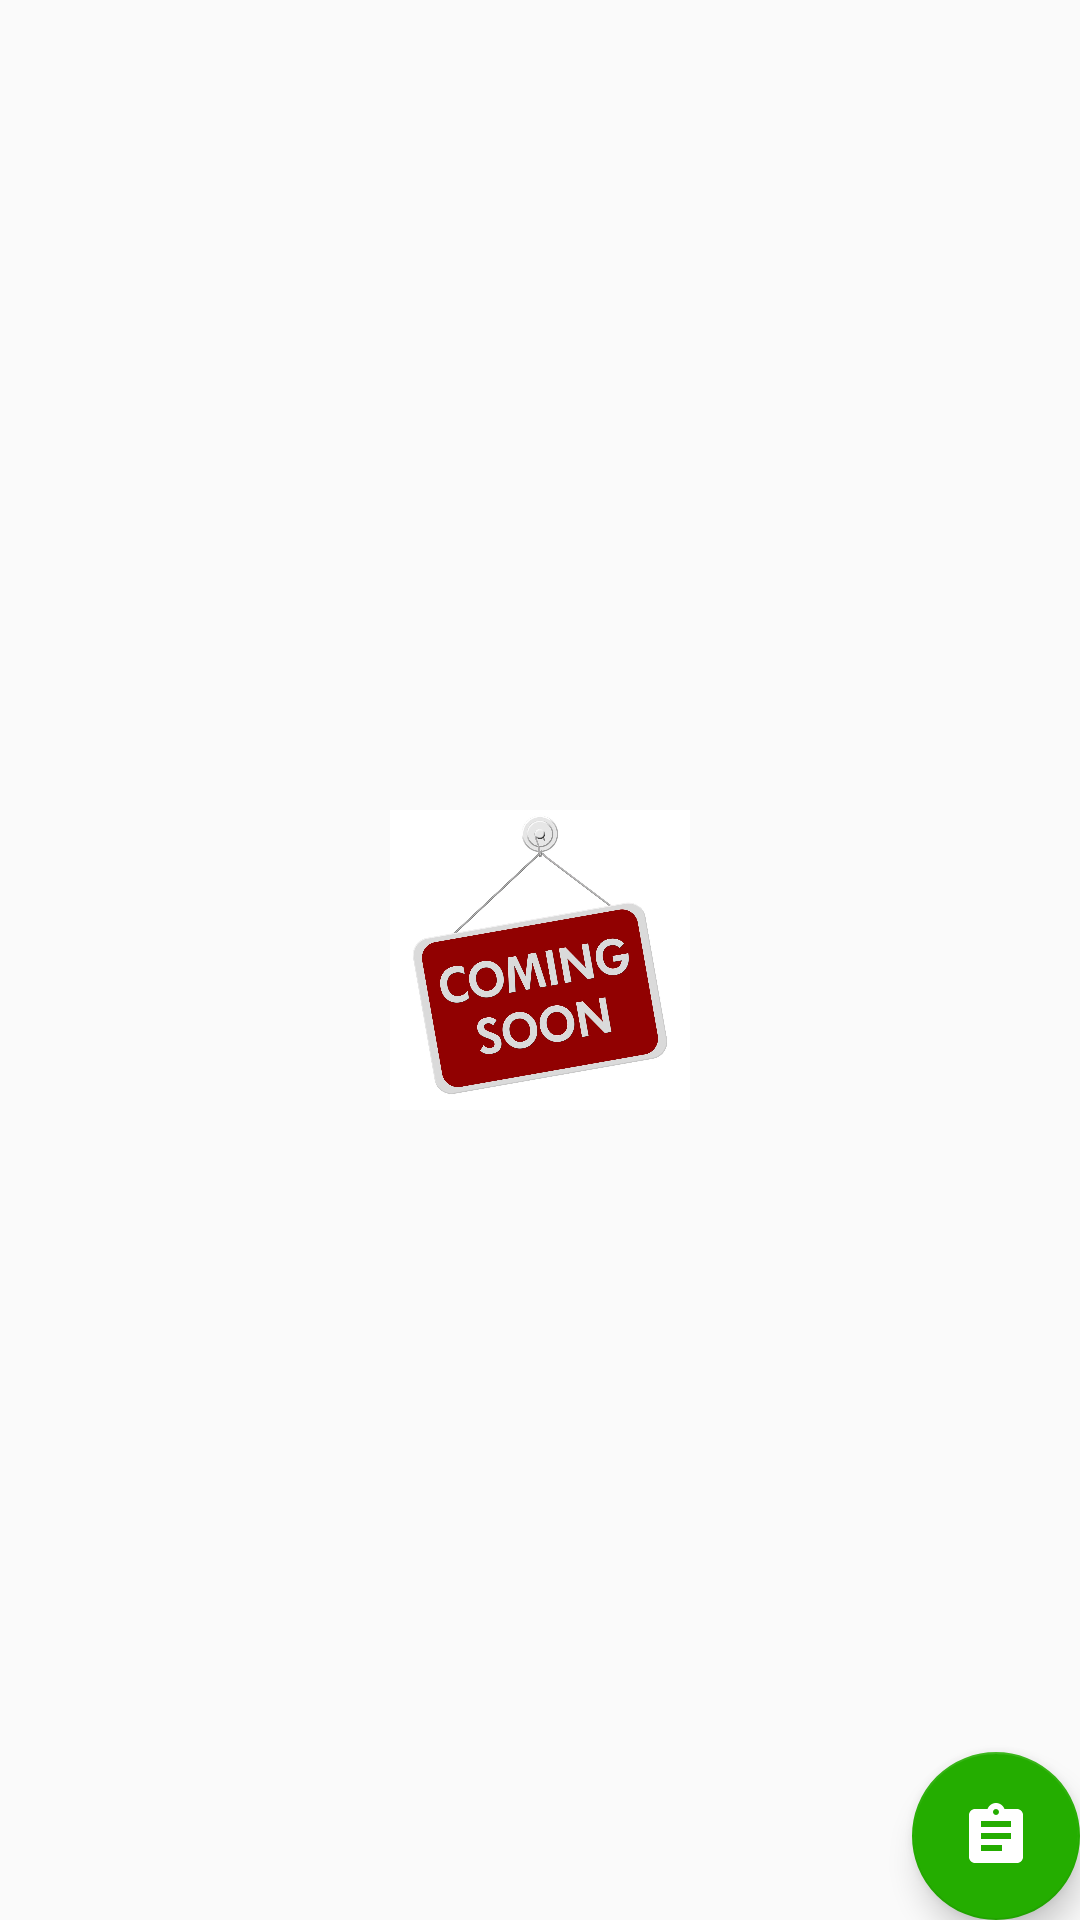

Icon click points for this 1080 × 1920 phone screenshot, format [x,y]:
status: [996,1836]
